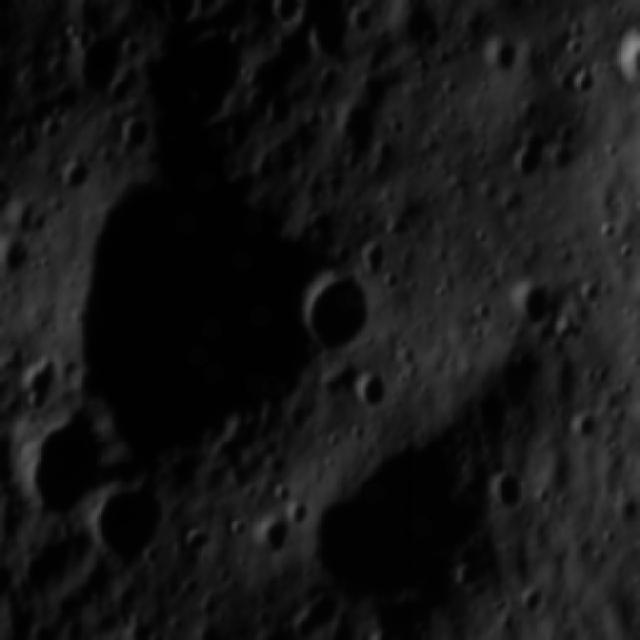crater: (22, 412, 102, 522), (287, 266, 378, 346), (81, 487, 177, 562), (484, 472, 536, 516), (609, 28, 640, 92), (478, 33, 522, 78), (508, 282, 550, 328), (250, 518, 288, 558), (353, 364, 385, 410), (346, 10, 374, 38), (272, 0, 303, 25), (262, 483, 293, 508), (288, 503, 320, 525), (162, 0, 192, 22), (522, 587, 548, 611), (182, 526, 204, 554), (572, 413, 591, 441), (378, 271, 400, 294), (618, 245, 640, 268), (474, 228, 495, 249), (221, 517, 244, 535), (600, 223, 625, 239), (605, 528, 620, 549), (432, 278, 446, 299), (531, 490, 551, 504), (561, 632, 594, 640), (468, 328, 481, 347)
